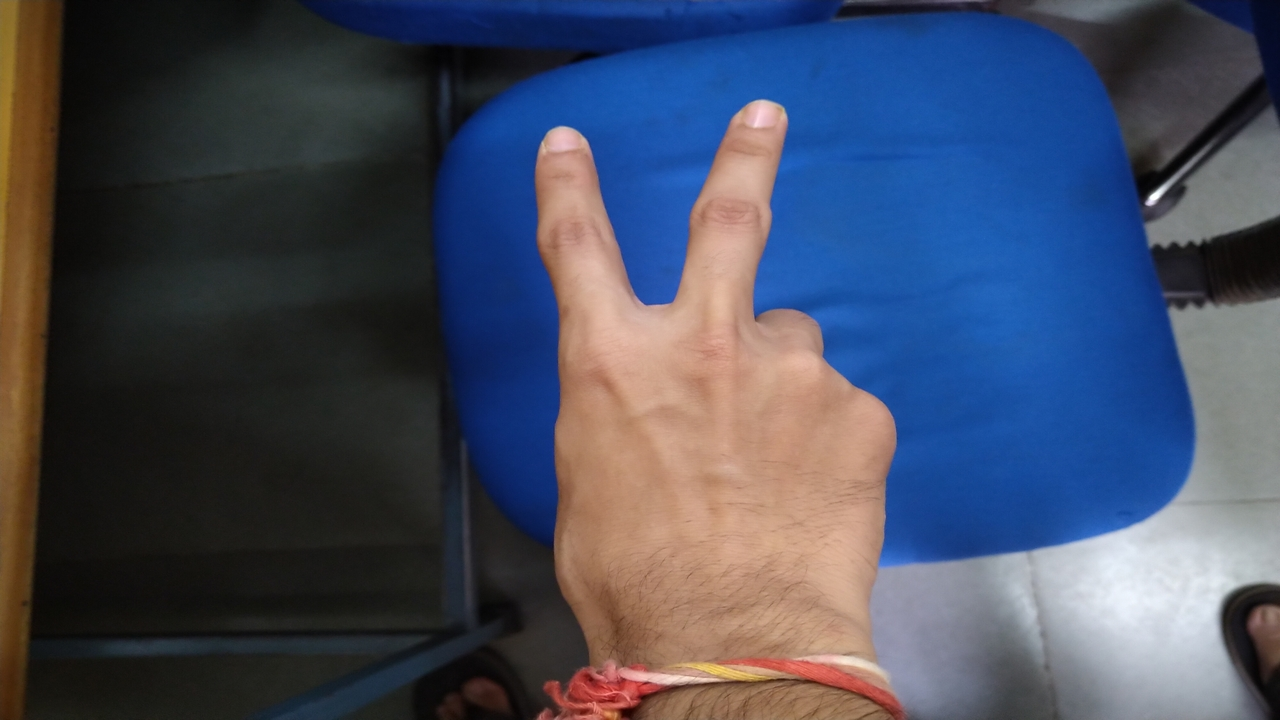fingertip: (720, 90, 796, 152), (526, 124, 598, 186)
